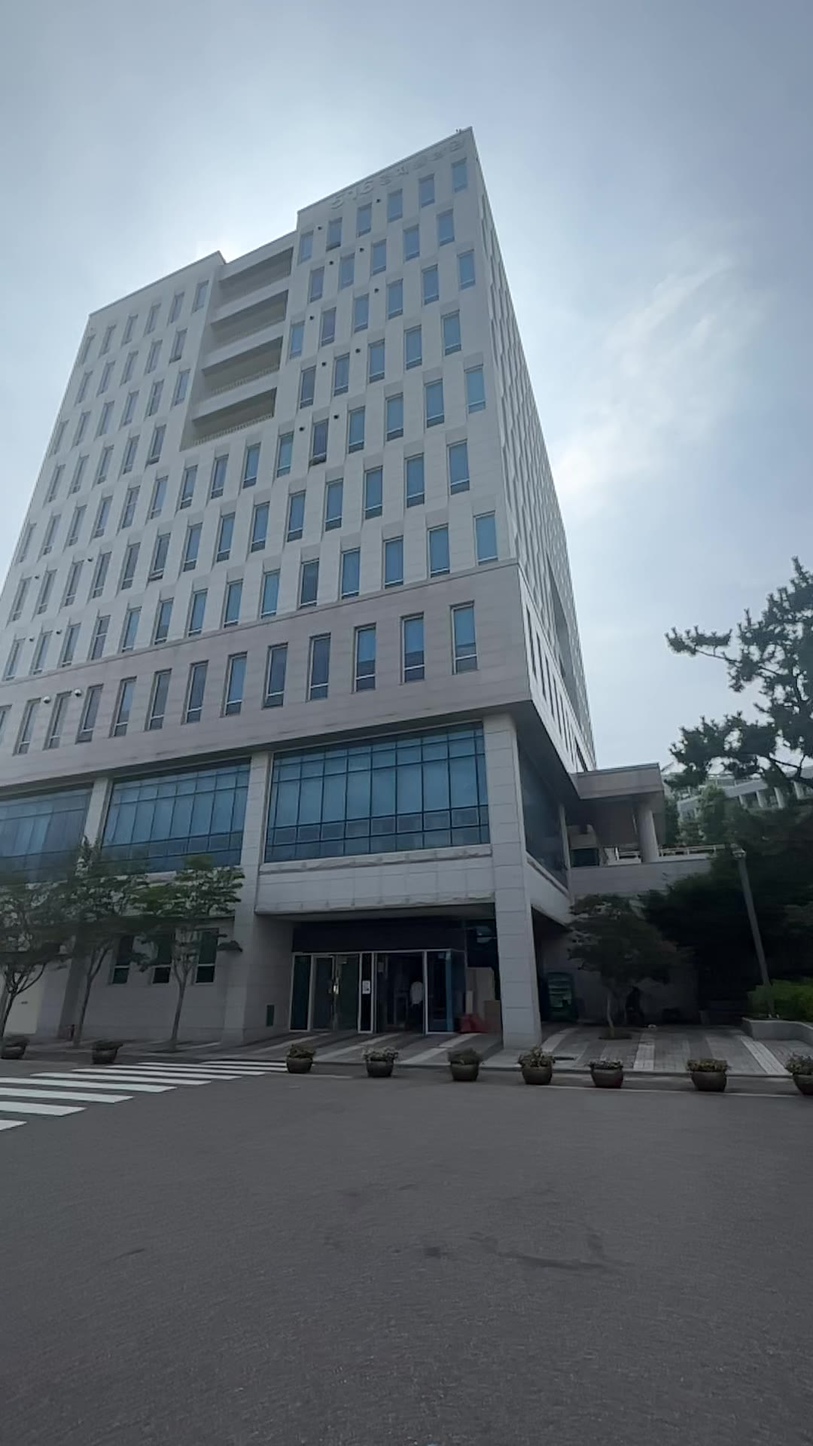low: (9, 134, 625, 874)
